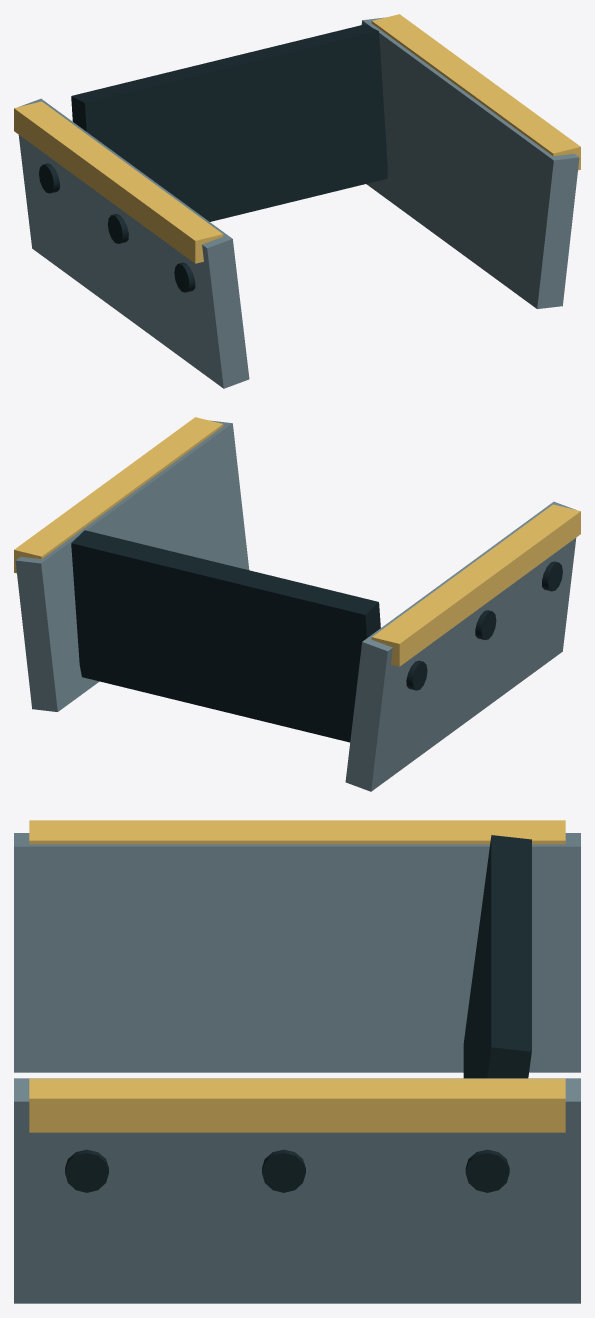
File: upgrade-armor_plating.glb
3 views of the same model, one above another, from view 1: azimuth 30°, elevation 25°; view 2: azimuth 150°, elevation 25°; view 3: azimuth 270°, elevation 25° (orthographic). The views are drawn at different scales.
Visible parts, largest first — view 1: upgrade-armor_plating; view 2: upgrade-armor_plating; view 3: upgrade-armor_plating.
Part boxes in pixels (box(x1,y1,x2,y2)): upgrade-armor_plating: box(14, 14, 580, 388); upgrade-armor_plating: box(14, 417, 580, 791); upgrade-armor_plating: box(14, 820, 580, 1303).
Size of the model in its own units: 1.94 by 0.78 by 1.67.
